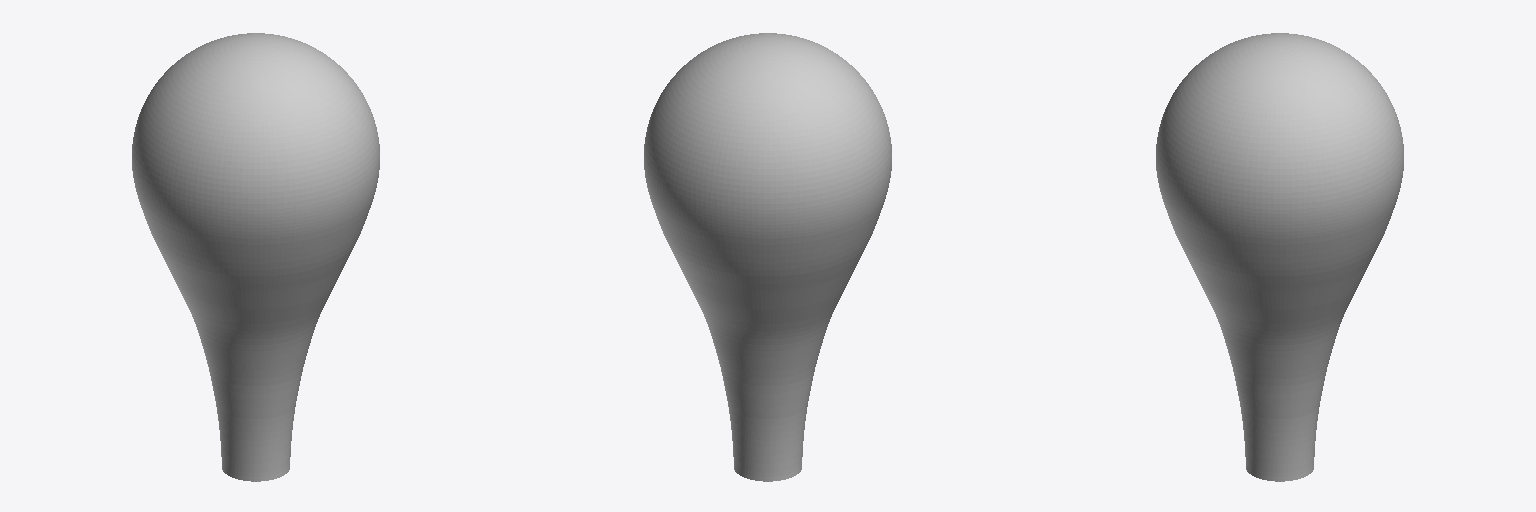
The model's file is 190708_Ether_100type_drop8.obj.
3 views of the same model, side by side, from view 1: azimuth 30°, elevation 25°; view 2: azimuth 150°, elevation 25°; view 3: azimuth 270°, elevation 25° (orthographic).
Parts seen in each view (by area): view 1: object_1; view 2: object_1; view 3: object_1.
Part boxes in pixels (bbox=[...]): object_1: bbox=[132, 33, 379, 481]; object_1: bbox=[644, 33, 891, 481]; object_1: bbox=[1156, 33, 1403, 481].
Size of the model in its own units: 36.34 by 68.17 by 36.34.